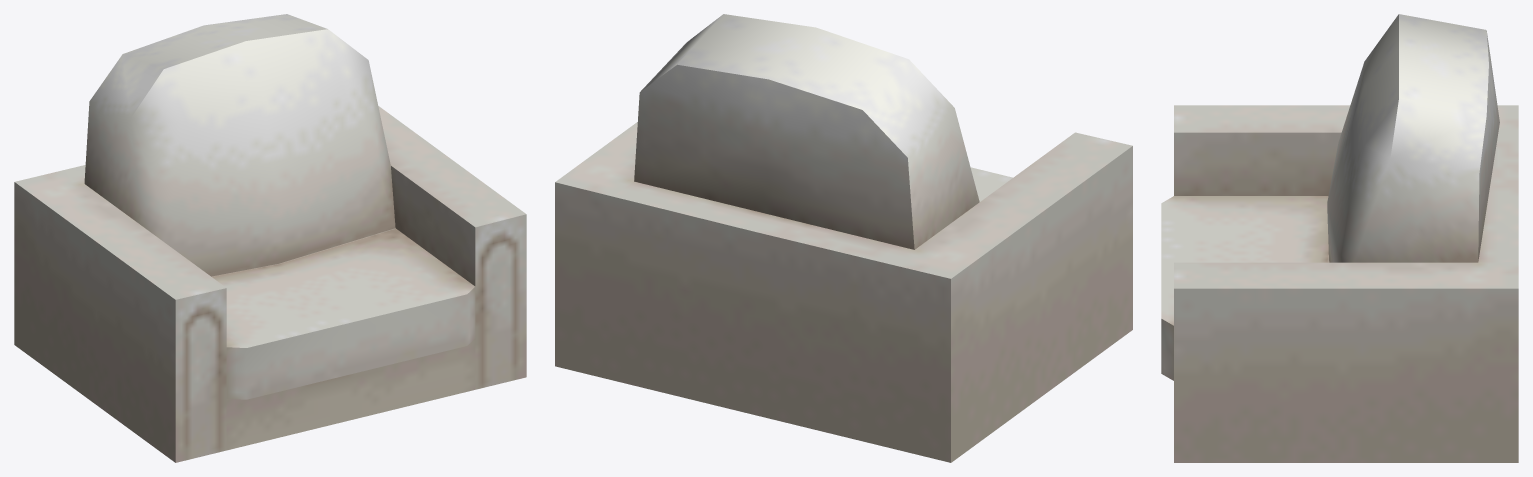
The model's file is White Sofa.obj.
The picture shows the model from 3 angles, left to right: view 1: azimuth 30°, elevation 25°; view 2: azimuth 150°, elevation 25°; view 3: azimuth 270°, elevation 25°; orthographic projection. The views are drawn at different scales.
Visible parts, largest first — view 1: polygon0; view 2: polygon0; view 3: polygon0.
Boxes of the visible parts, x1,y1,x2,y2 form: polygon0: (14,14,526,462); polygon0: (555,14,1132,462); polygon0: (1161,14,1518,462).
Bounding box in the file's own units: 3.56 × 2.93 × 2.93.
Materials: 1 (1 with a texture image).
